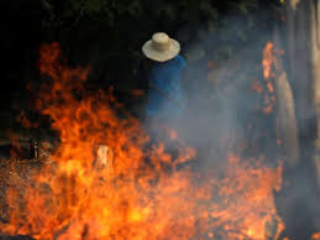fire: (30, 53, 143, 236), (141, 157, 277, 235)
